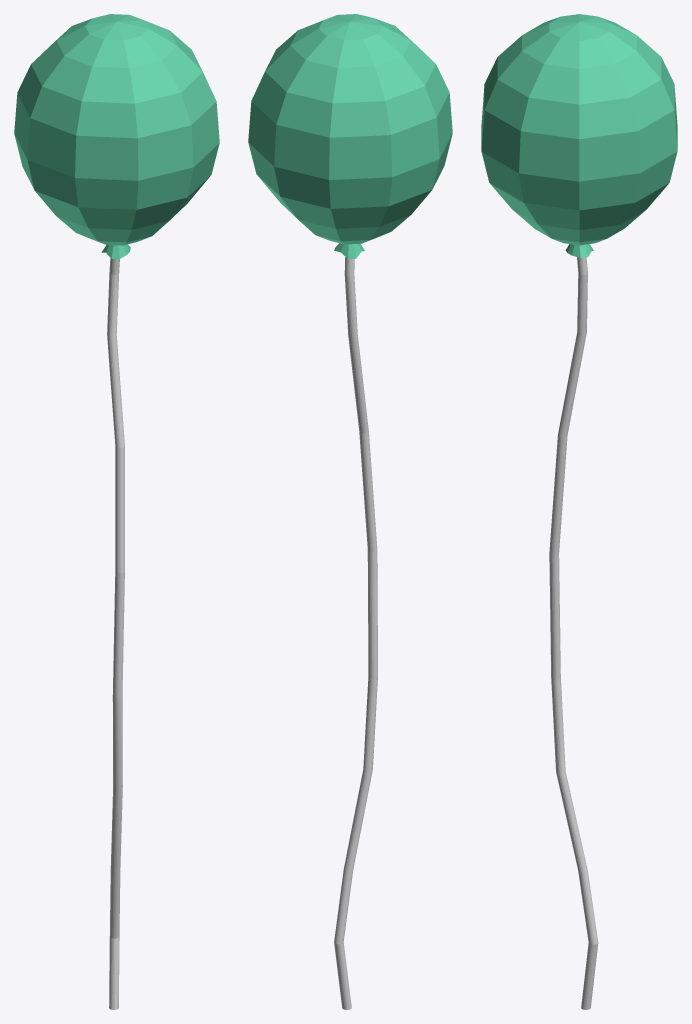
Rendered from baloon4.fbx.
The picture shows the model from 3 angles, left to right: view 1: azimuth 30°, elevation 25°; view 2: azimuth 150°, elevation 25°; view 3: azimuth 270°, elevation 25°; orthographic projection.
Parts seen in each view (by area): view 1: string1.001; view 2: string1.001; view 3: string1.001.
Boxes of the visible parts, left/top/right/bottom form: string1.001: left=14, top=14, right=219, bottom=1009; string1.001: left=248, top=14, right=452, bottom=1009; string1.001: left=481, top=14, right=677, bottom=1009.
Size of the model in its own units: 45.13 by 238 by 42.92.
